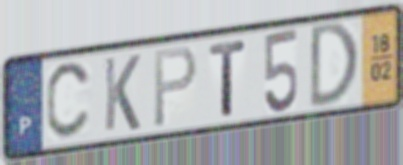5: (262, 26, 299, 115)
C: (44, 58, 95, 143)
D: (307, 19, 361, 113)
K: (102, 52, 142, 134)
P: (151, 43, 199, 131)
T: (207, 37, 249, 119)
